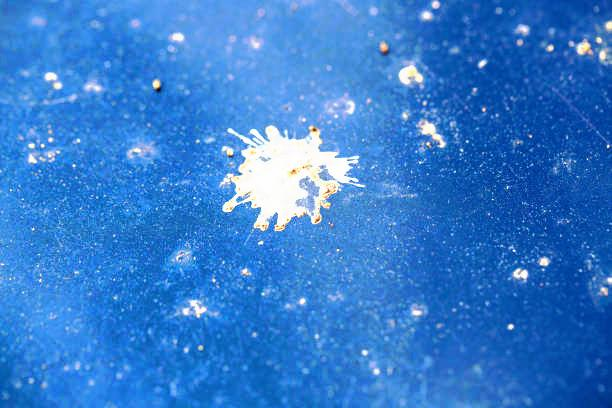Bird Poop: (223, 126, 363, 230), (17, 124, 60, 163), (127, 139, 158, 162), (325, 94, 355, 117), (421, 120, 445, 147), (177, 300, 208, 317), (398, 65, 422, 84), (171, 248, 192, 264), (45, 72, 61, 89), (84, 80, 103, 92), (599, 48, 611, 64), (577, 40, 591, 53), (512, 269, 527, 280), (421, 11, 432, 20), (539, 258, 549, 266), (605, 20, 611, 32), (412, 308, 422, 315)
